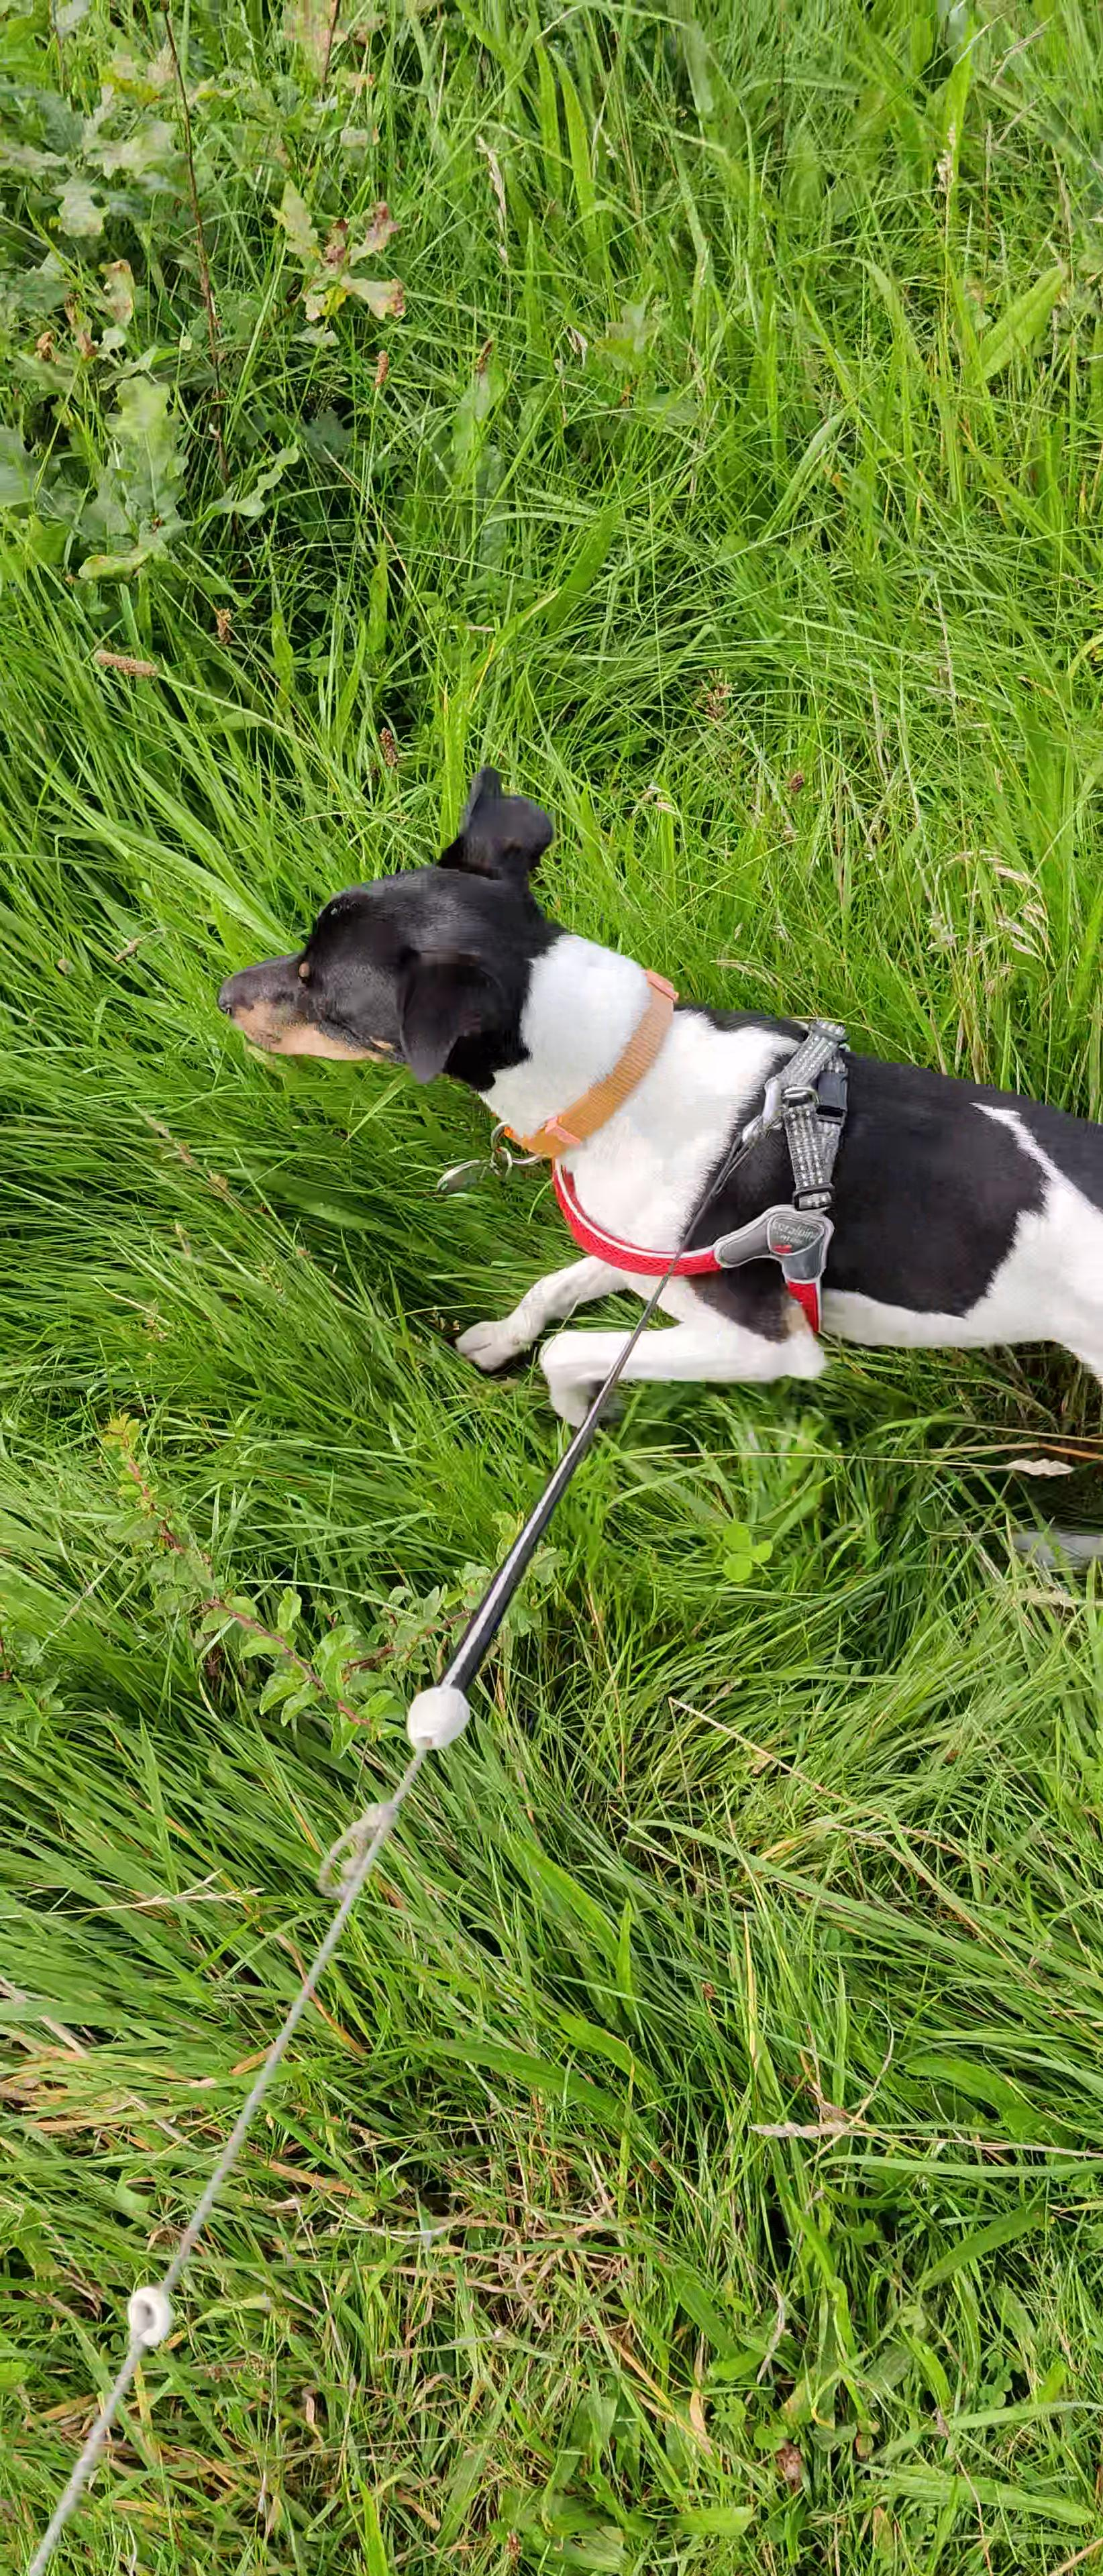Dog: (212, 761, 1103, 1436)
